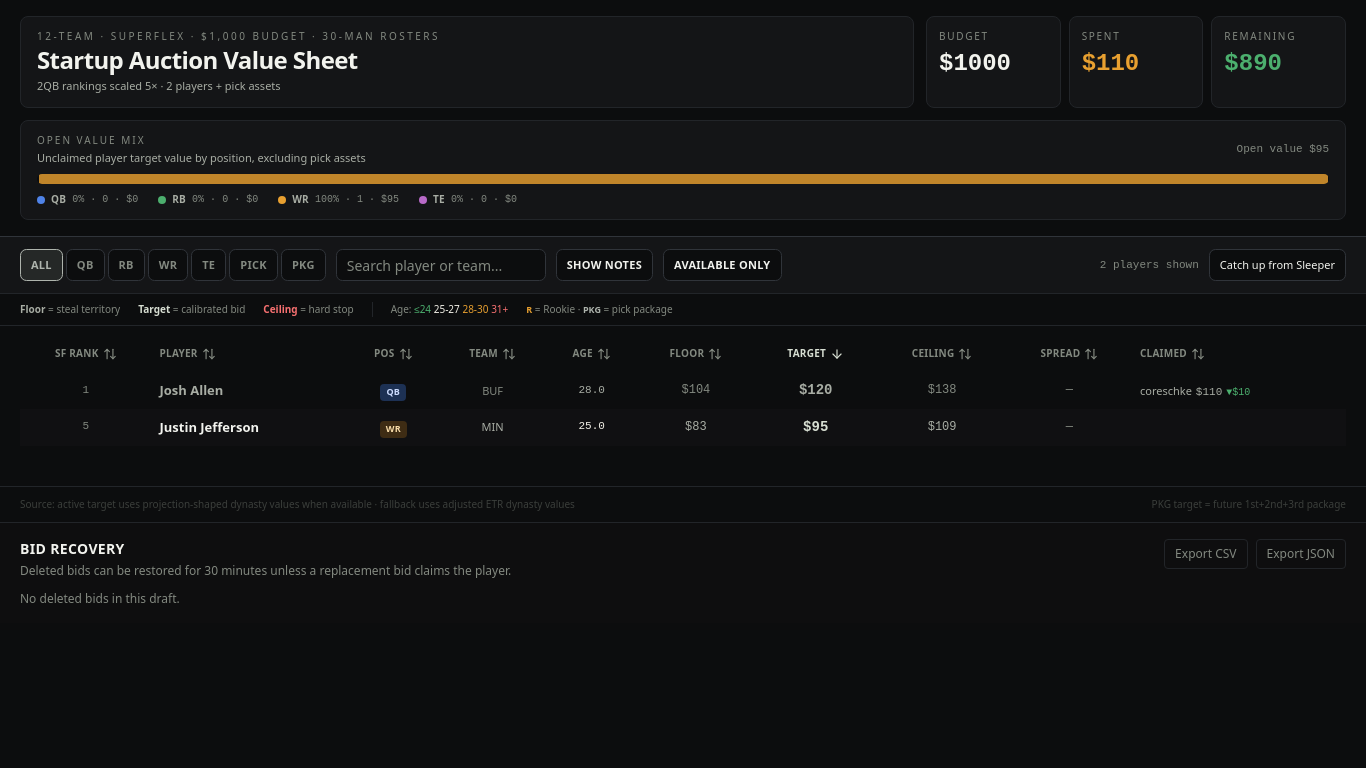
Test: AuctionSheet with claimed bids › updates a claimed player and closes the edit dialog after save succeeds
Step 1. Click the row with test id "player-row-1" → (683, 390), box [20,372,1346,409]
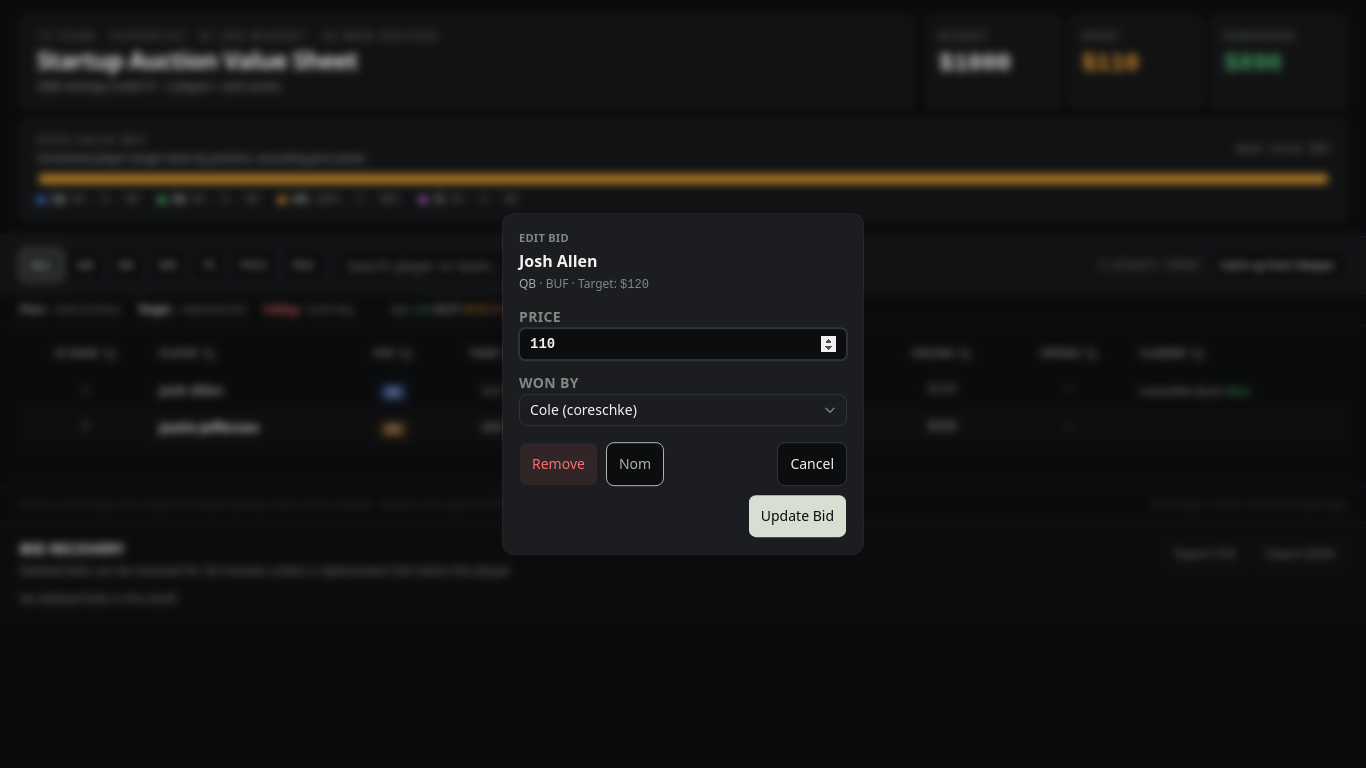
Step 2. Replace the text in the number field with test id "bid-price" with "125" → (683, 344), box [519,328,847,360]
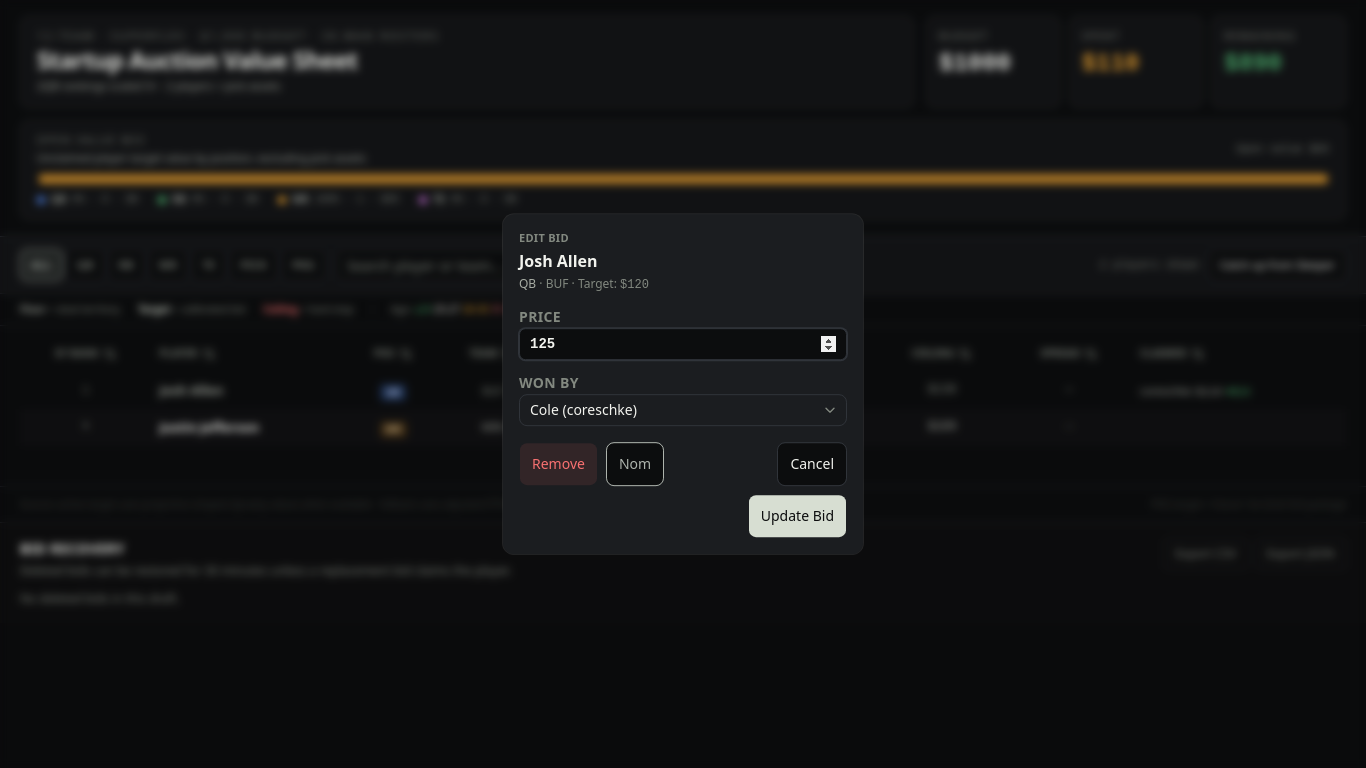
Step 3. Click the button with test id "bid-submit" → (797, 516), box [748,494,847,538]
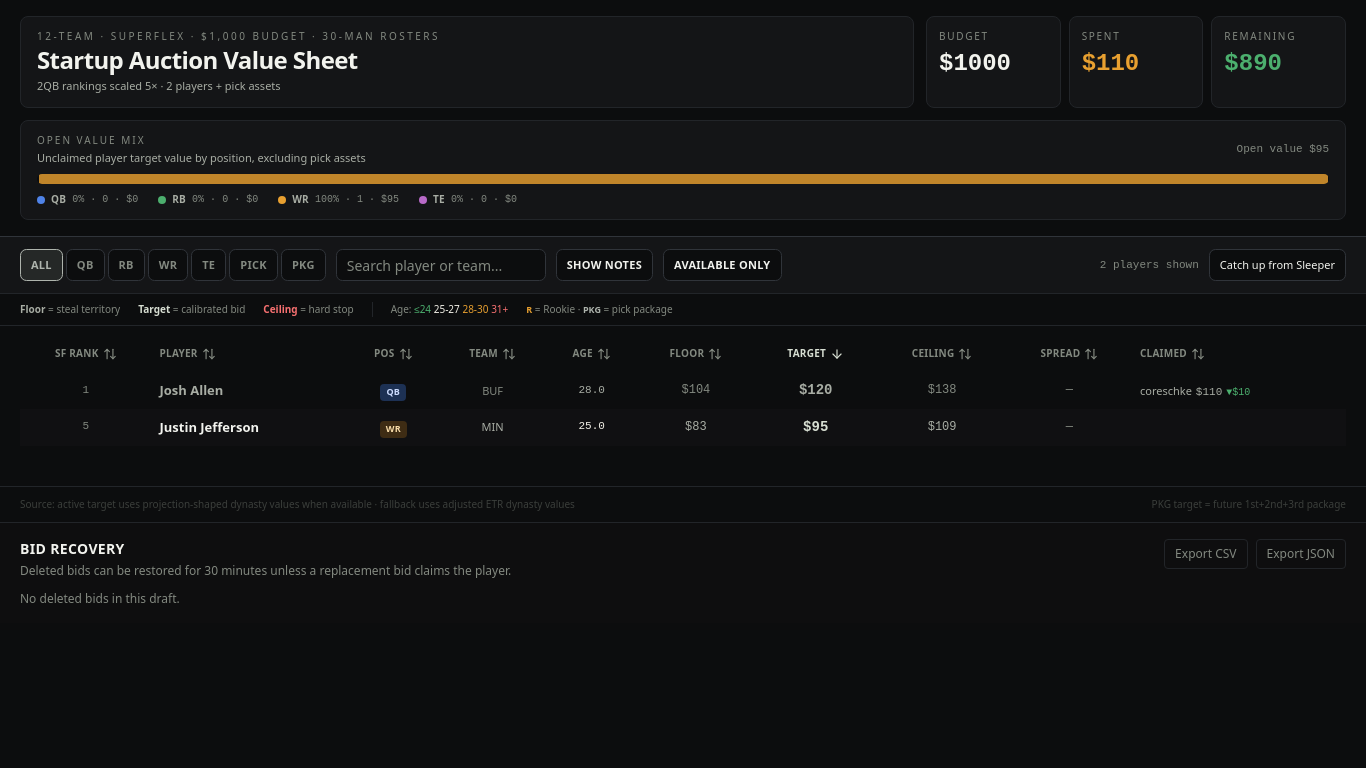
Result: the dialog is gone
